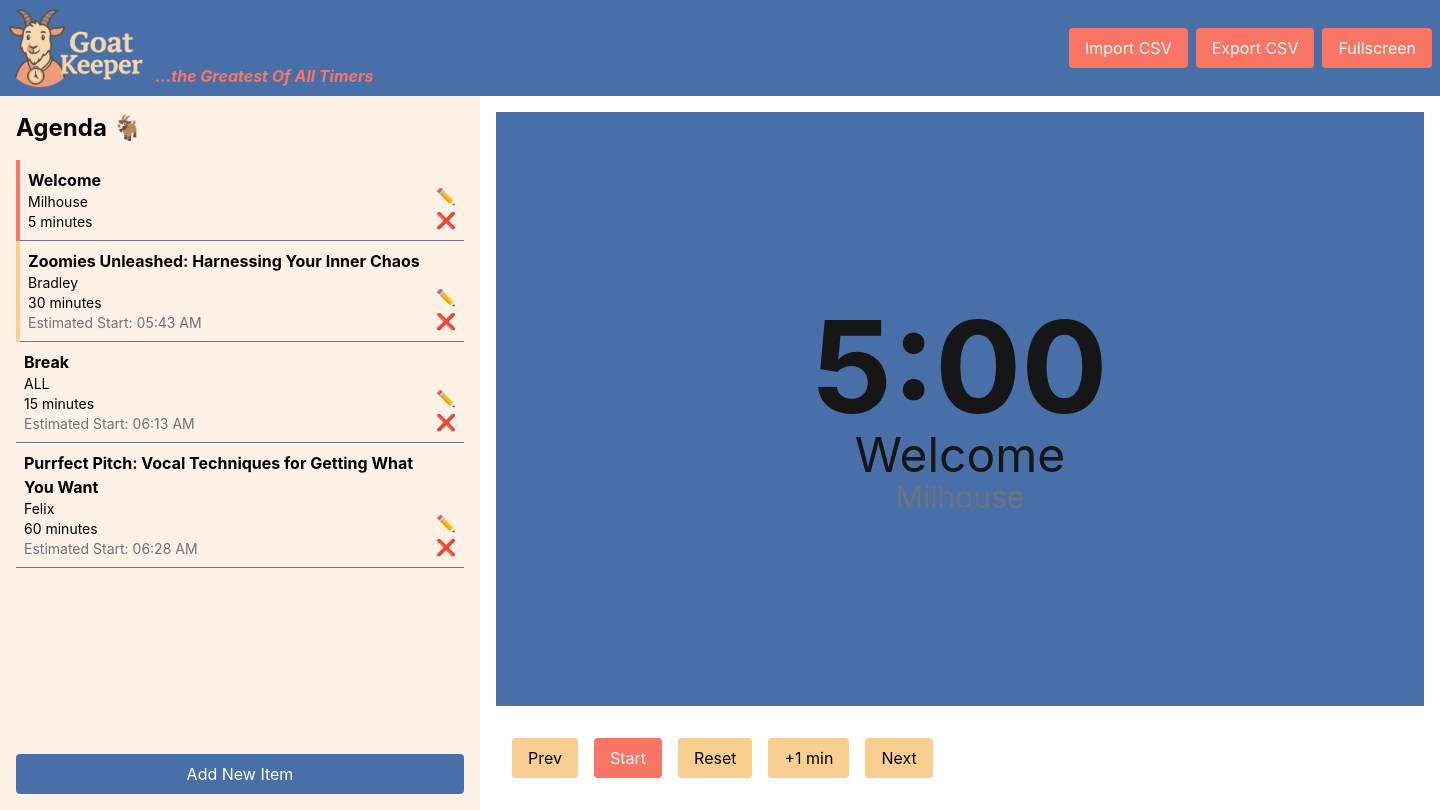
Test case: App › starts and pauses the timer
The image size is (1440, 810).
Click the button "Start". click: (628, 758)
box: [594,738,662,778]
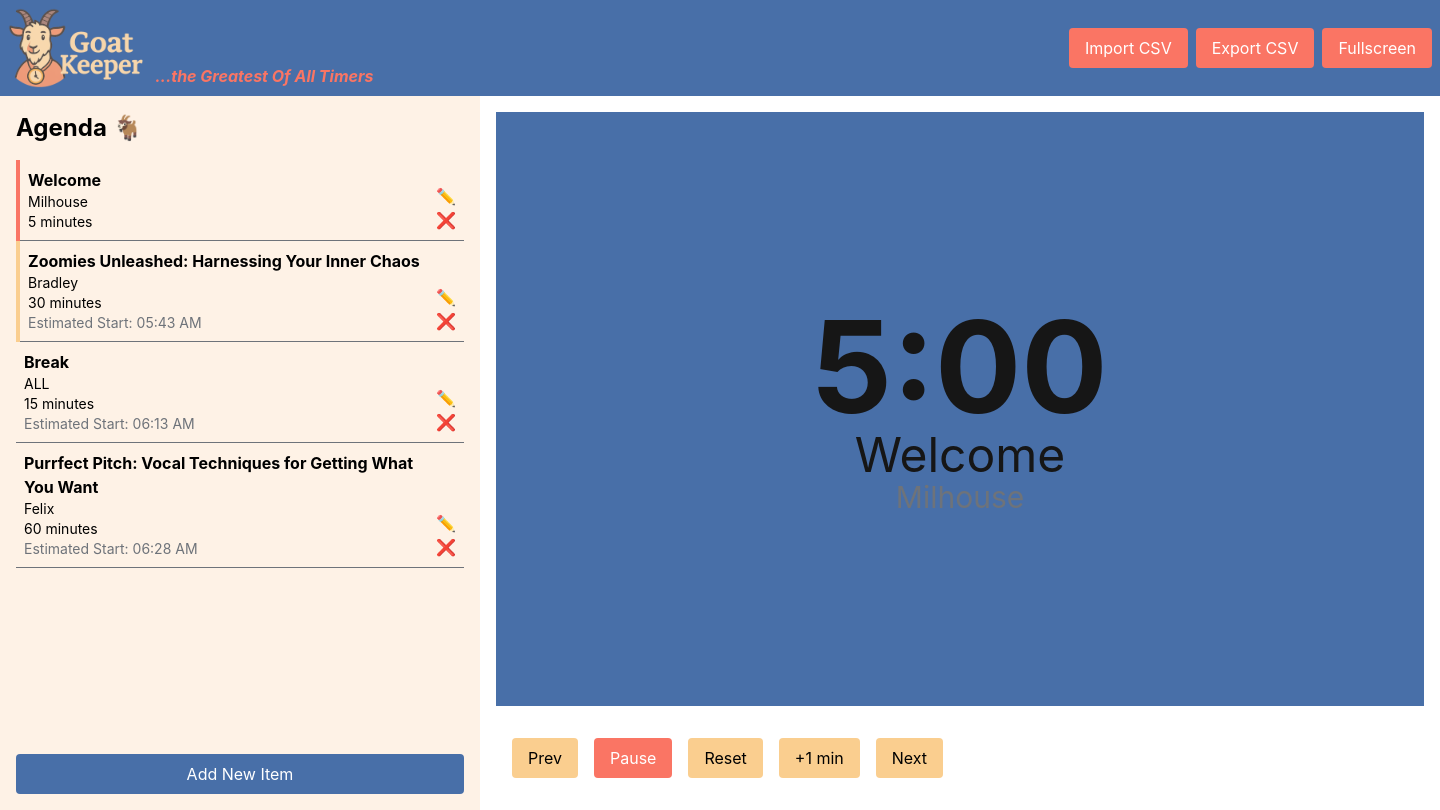
Now the button "Pause" is shown
Click the button "Pause". click: (633, 758)
box: [594,738,672,778]
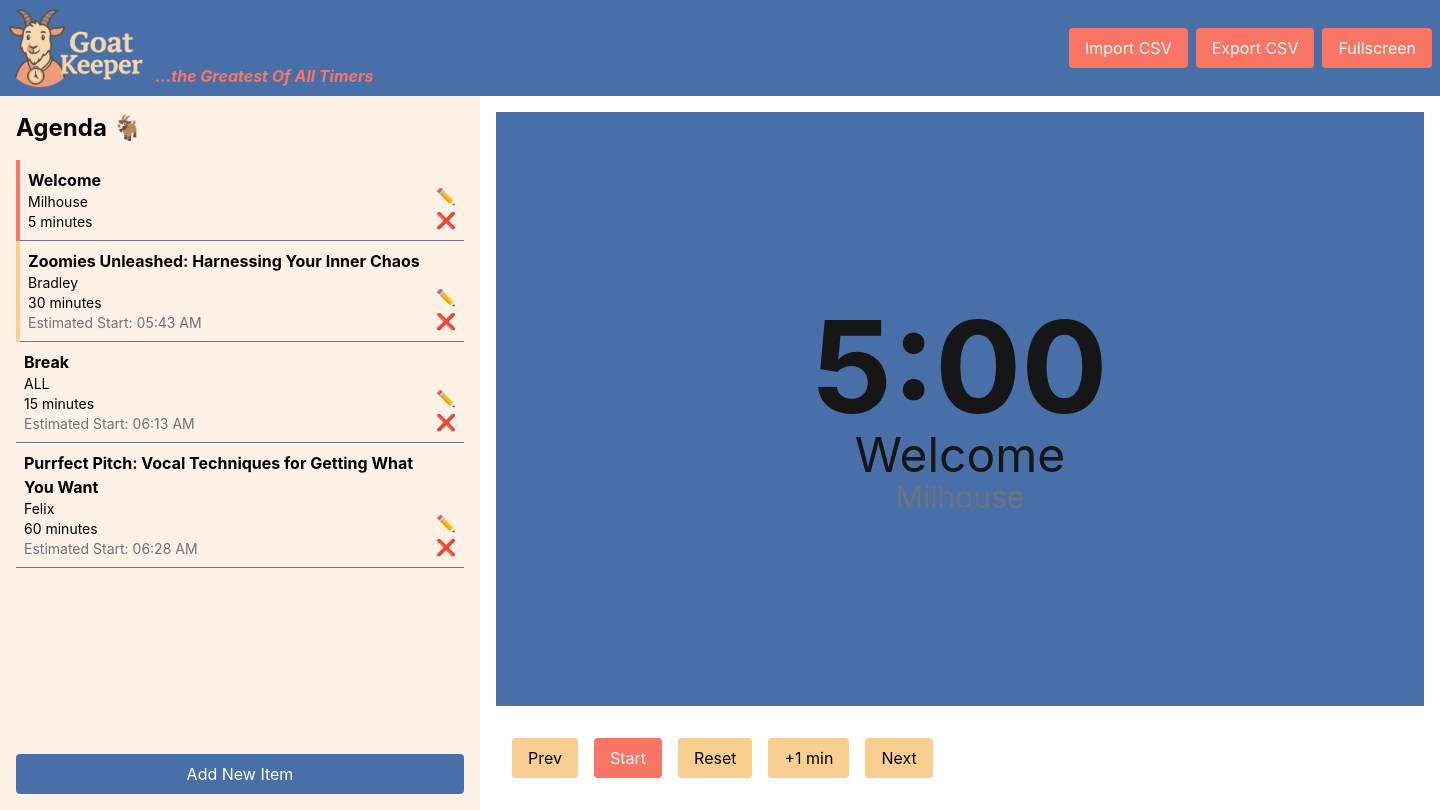
Now the button "Start" is shown, box [594,738,662,778]
